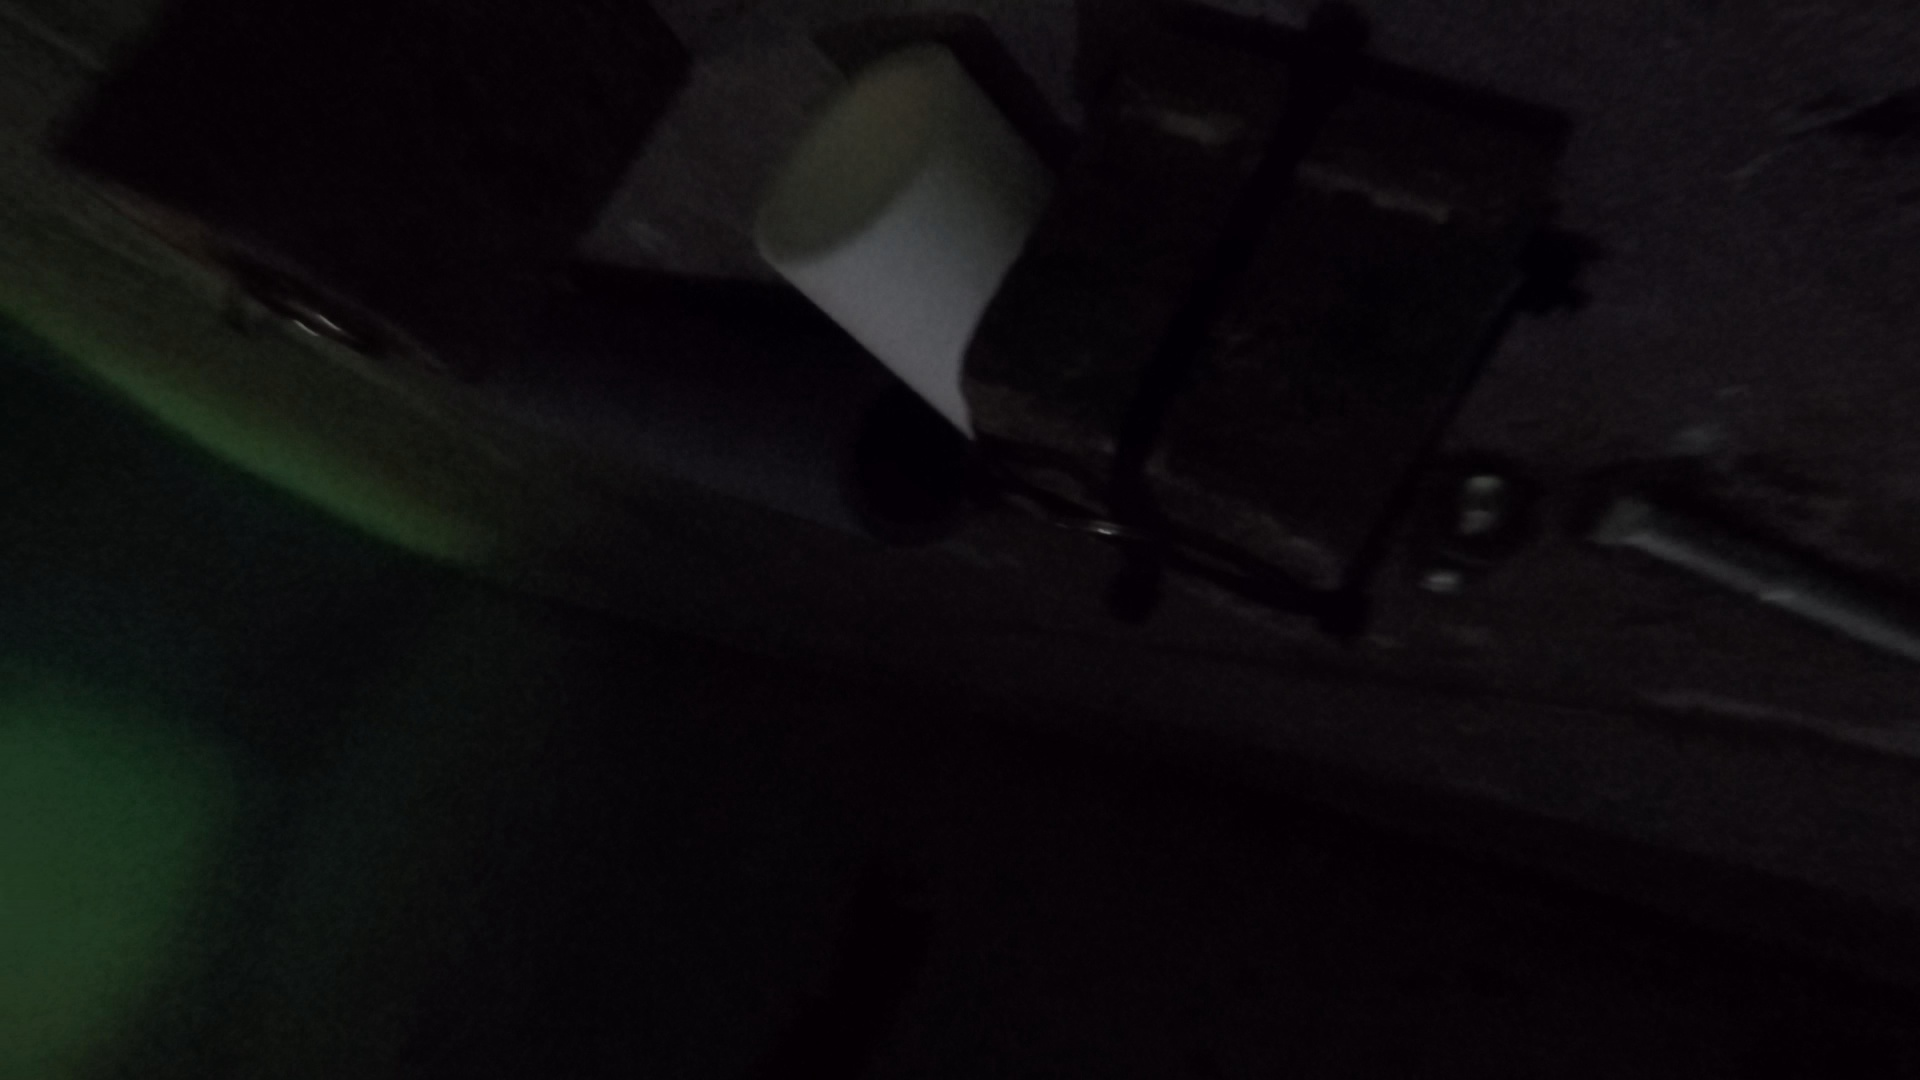bolt: (1582, 472, 1920, 661), (1406, 471, 1516, 596)
led_block: (953, 18, 1593, 646), (44, 3, 696, 382)
pipe: (454, 251, 996, 555), (752, 44, 1040, 440)
